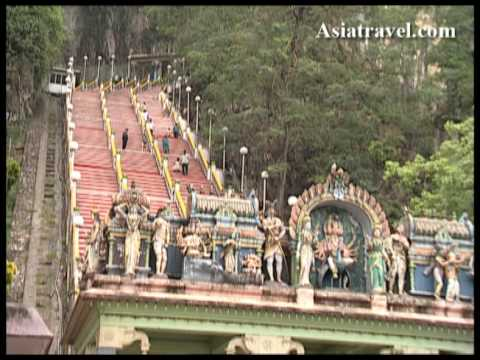Hindu Temple: (83, 170, 470, 345)
